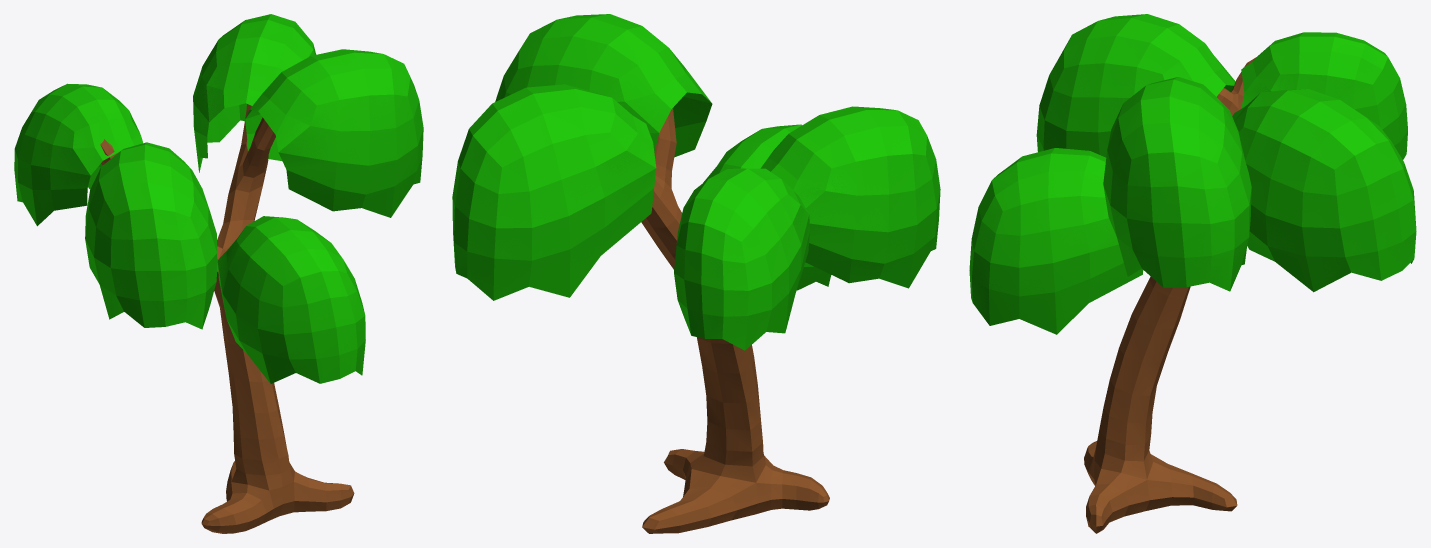
The model's file is tree-animated.glb.
The picture shows the model from 3 angles, left to right: view 1: azimuth 30°, elevation 25°; view 2: azimuth 150°, elevation 25°; view 3: azimuth 270°, elevation 25°; orthographic projection. The views are drawn at different scales.
Visible parts, largest first — view 1: pCube14, pCube16, pCube15, polySurface3, pCube12, pCube13; view 2: pCube13, pCube16, pCube12, polySurface3, pCube14, pCube15; view 3: pCube13, pCube14, pCube15, polySurface3, pCube16, pCube12.
Boxes of the visible parts, <box> form: pCube14: <box>245,49,423,217</box>; pCube16: <box>85,142,216,329</box>; pCube15: <box>217,216,365,383</box>; polySurface3: <box>100,104,354,533</box>; pCube12: <box>14,83,142,226</box>; pCube13: <box>193,14,316,172</box>; pCube13: <box>452,84,656,300</box>; pCube16: <box>760,106,940,288</box>; pCube12: <box>674,168,809,350</box>; polySurface3: <box>641,109,829,533</box>; pCube14: <box>495,14,712,157</box>; pCube15: <box>703,124,831,290</box>; pCube13: <box>1232,89,1416,292</box>; pCube14: <box>1103,77,1251,291</box>; pCube15: <box>969,148,1143,334</box>; polySurface3: <box>1084,56,1257,533</box>; pCube16: <box>1036,14,1235,157</box>; pCube12: <box>1241,32,1407,159</box>.
Size of the model in its own units: 0.6455 by 0.7464 by 0.6573.
